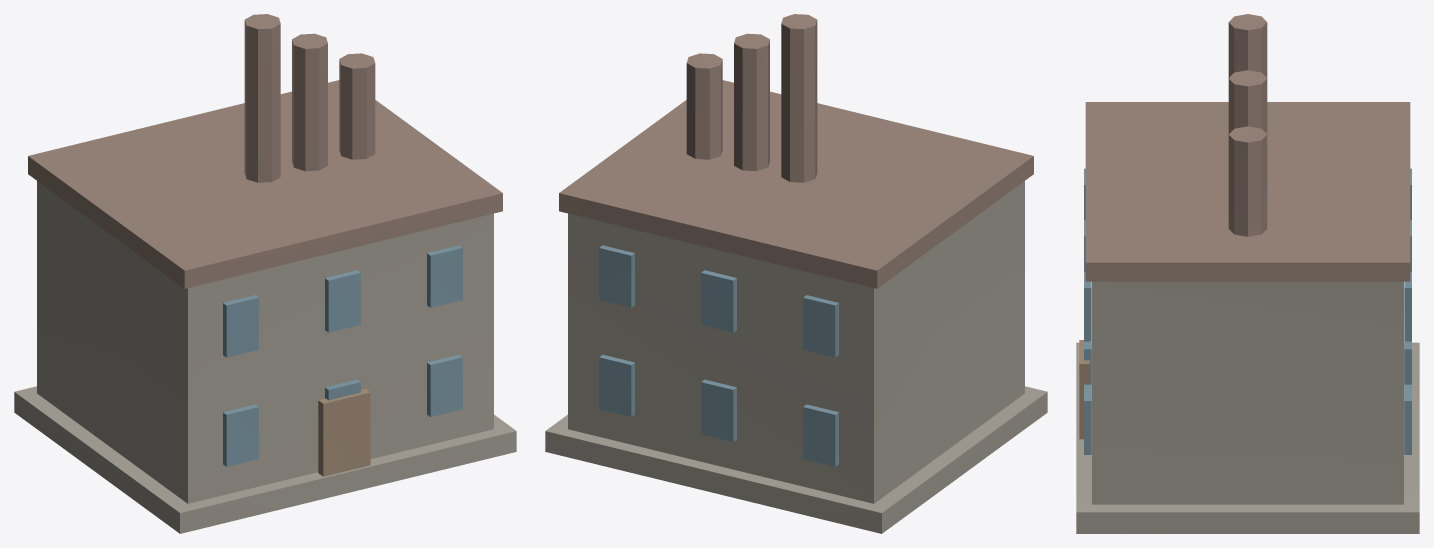
File: factory-05.glb
The picture shows the model from 3 angles, left to right: view 1: azimuth 30°, elevation 25°; view 2: azimuth 150°, elevation 25°; view 3: azimuth 270°, elevation 25°; orthographic projection. The views are drawn at different scales.
Parts seen in each view (by area): view 1: world; view 2: world; view 3: world.
Part boxes in pixels (x1,y1,x2,y2): world: [14, 14, 516, 533]; world: [545, 14, 1047, 533]; world: [1076, 14, 1419, 533].
Bounding box in the file's own units: 1.35 × 1.58 × 1.15.
